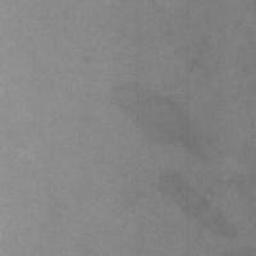Water spot: (113, 77, 209, 154), (159, 168, 242, 243), (219, 243, 256, 256)
